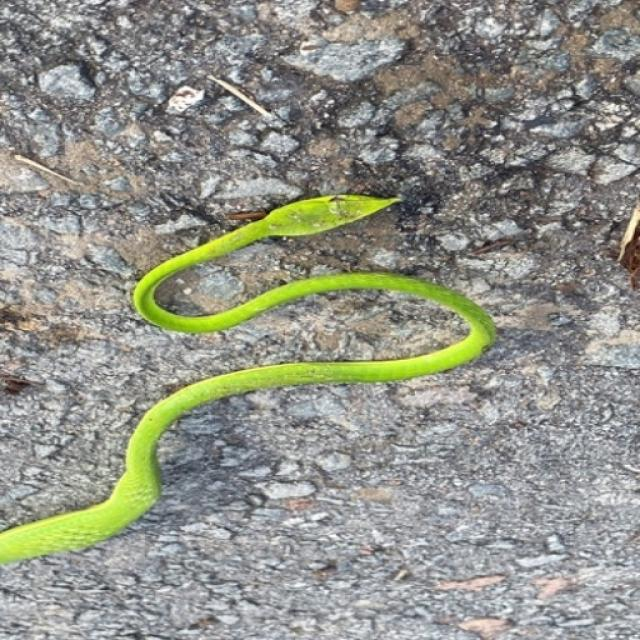snake: (0, 175, 498, 576)
